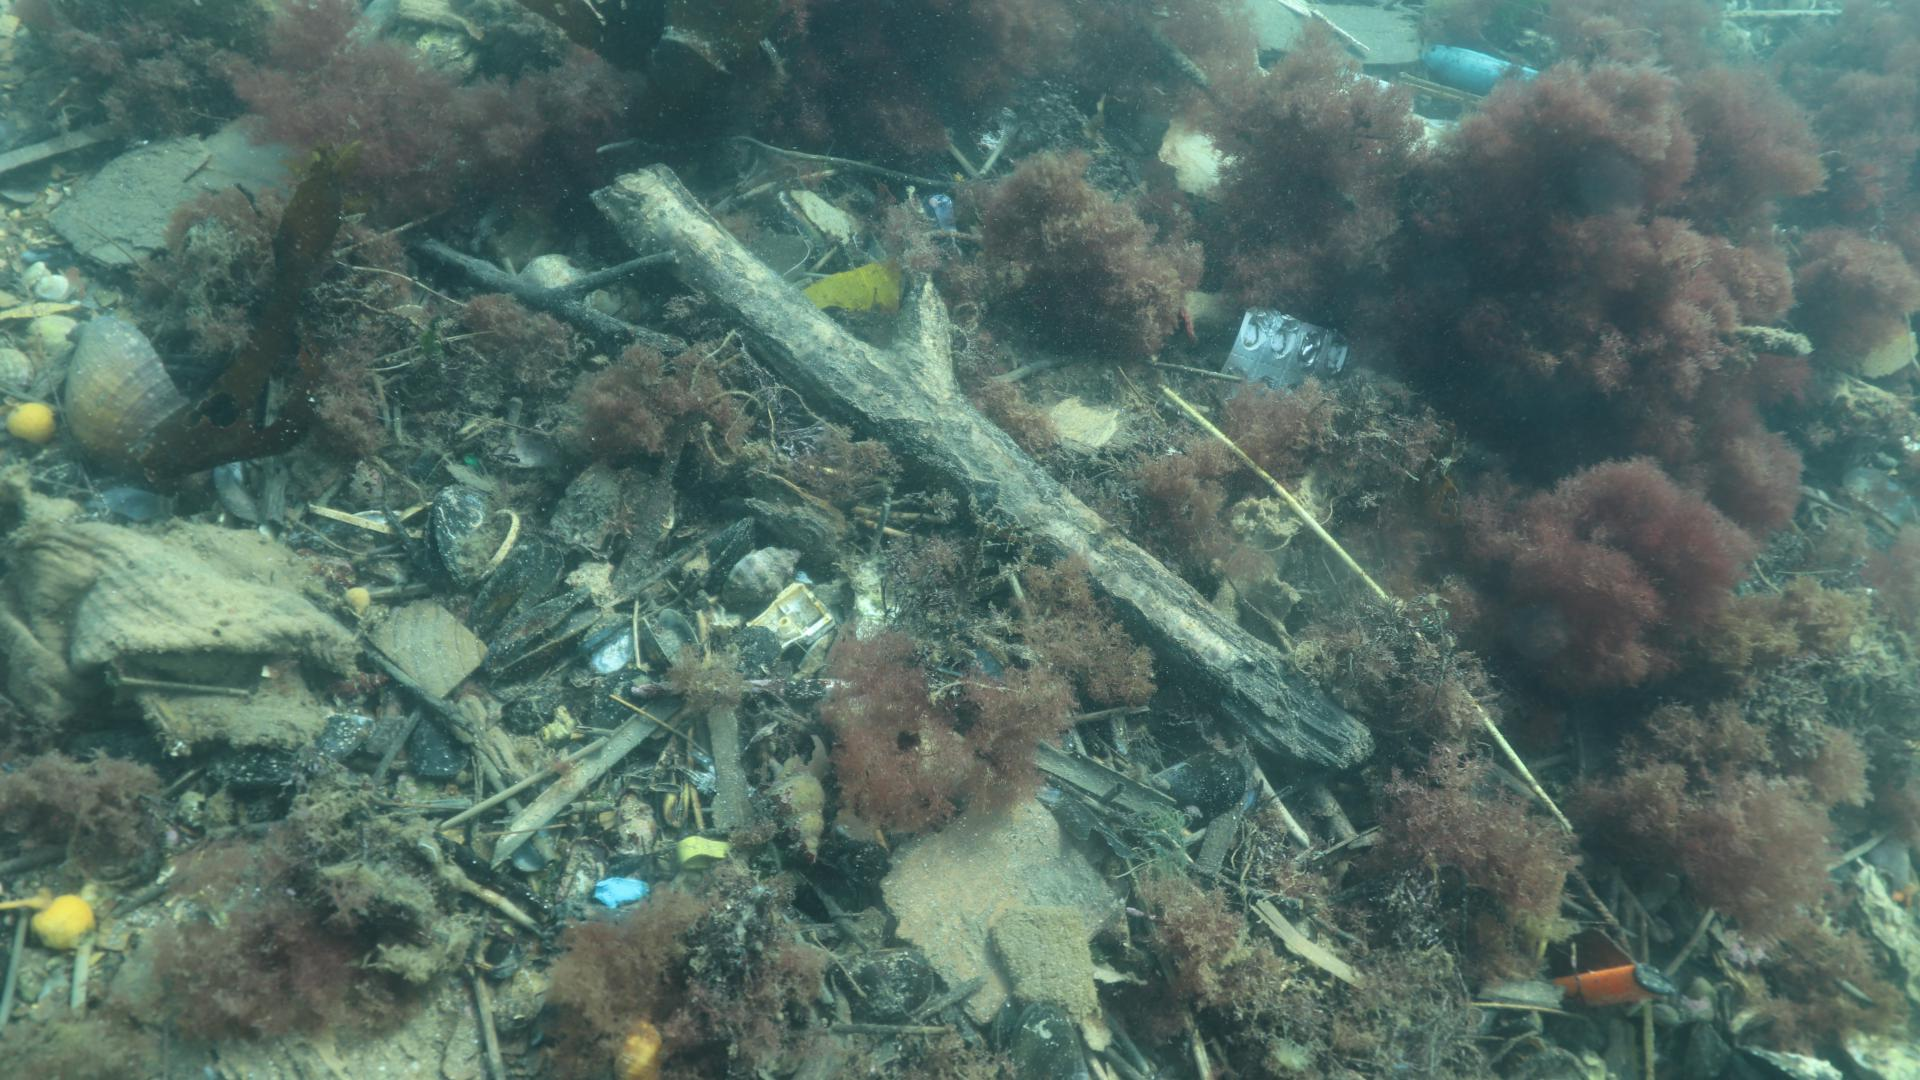wood: (585, 158, 1373, 769)
